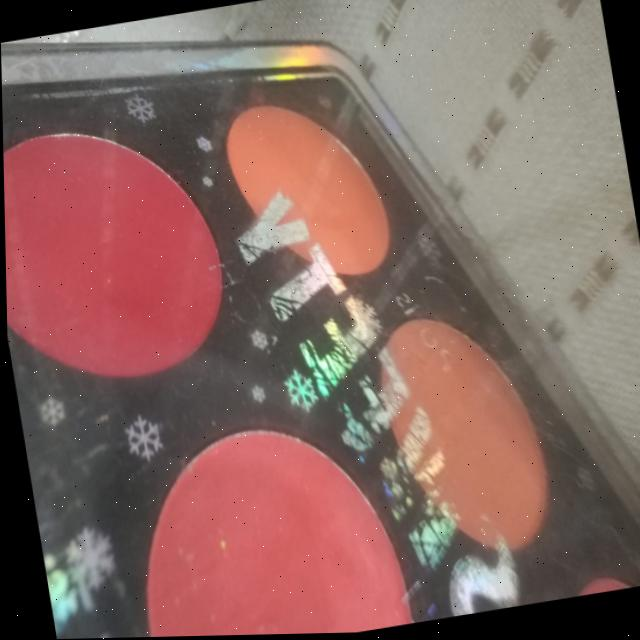blush: (95, 393, 417, 638), (2, 96, 240, 419), (356, 260, 576, 577), (214, 82, 419, 351)
